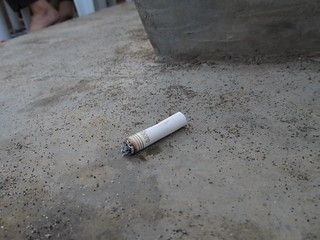cigarette: (119, 109, 191, 159)
